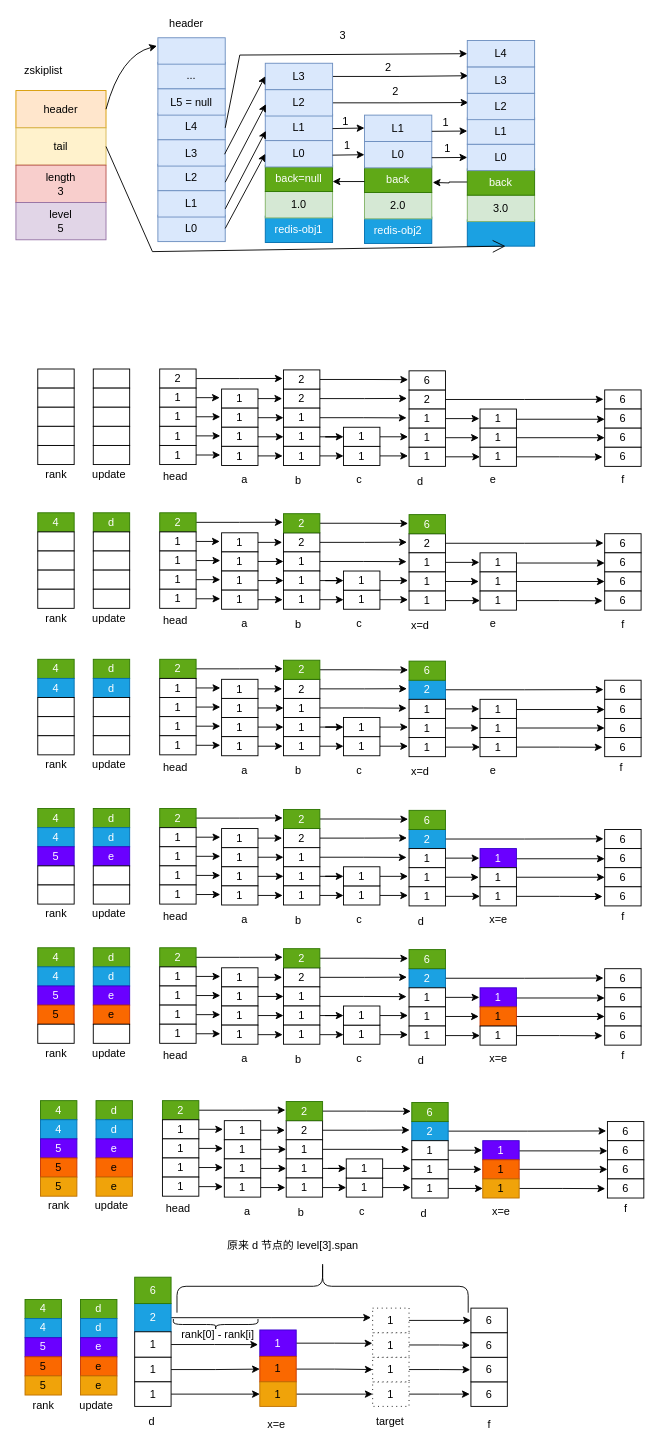
This 660x1448 diagram has some shape labels left out. Here are the shapes that lost their labels. From the top down, the box of each, then its label:
(157, 37, 225, 64): L31 = null
(466, 219, 535, 246): redis-obj3
